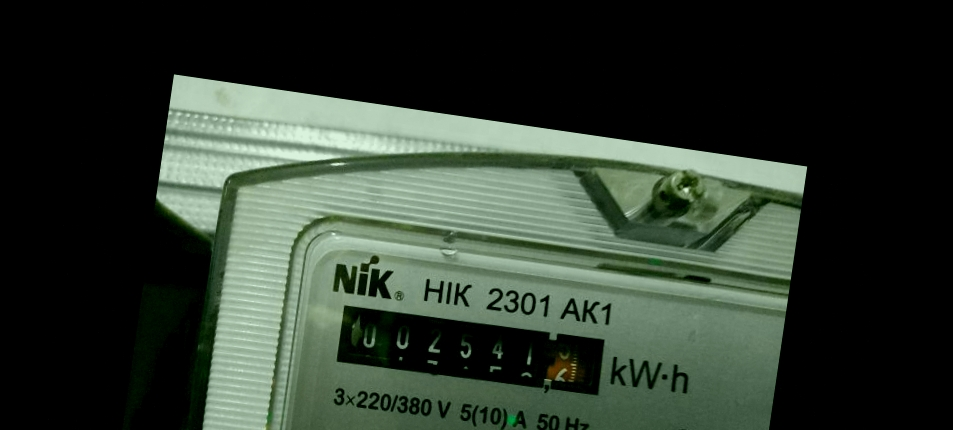0: (392, 317, 415, 352), (361, 318, 382, 349)
1: (519, 332, 539, 367)
2: (422, 320, 448, 357)
4: (488, 329, 510, 362)
5: (456, 327, 477, 361)
6: (552, 361, 571, 384)
screen: (320, 284, 629, 416)
